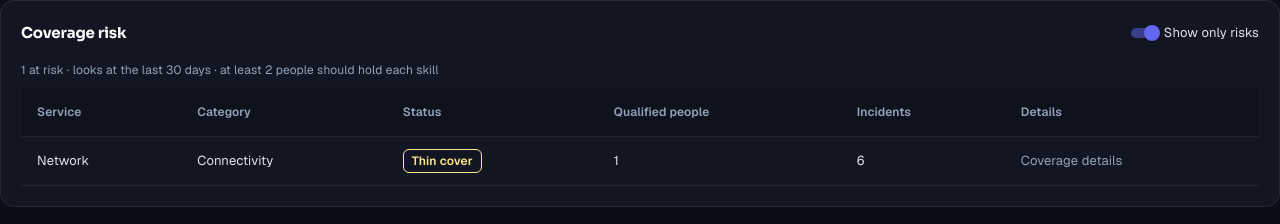
Test case: remaining Task 3 screens › updates the coverage-risk table when its risk-only switch changes
Expected: the text "Network" is shown, x1=21 y1=137 x2=181 y2=186
Click the checkbox labelled "Show only risks" at (1191, 33), box x1=1124 y1=21 x2=1259 y2=45
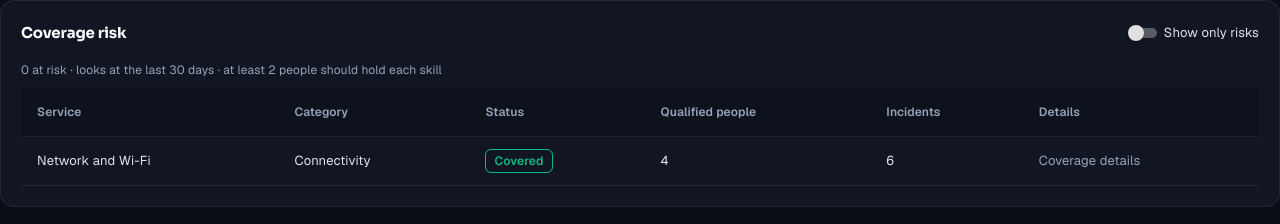
Expected: the text "Network and Wi-Fi" is shown, x1=21 y1=137 x2=278 y2=186
